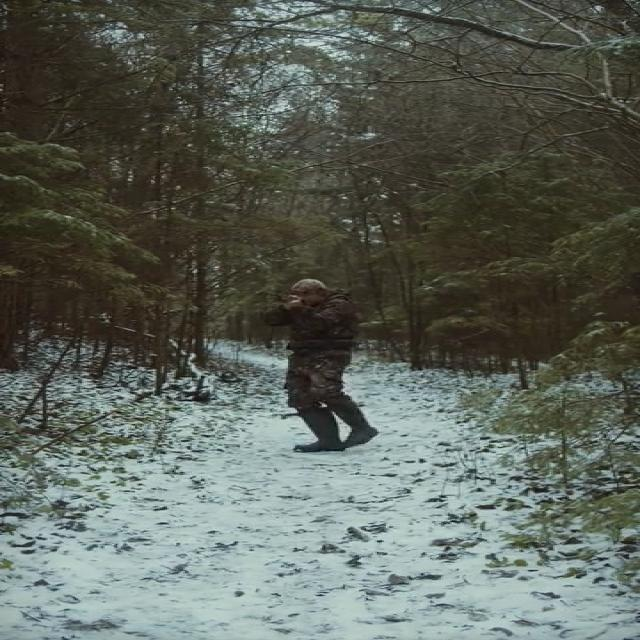Gun_Holder: (259, 290, 305, 306)
Person: (267, 273, 365, 447)
